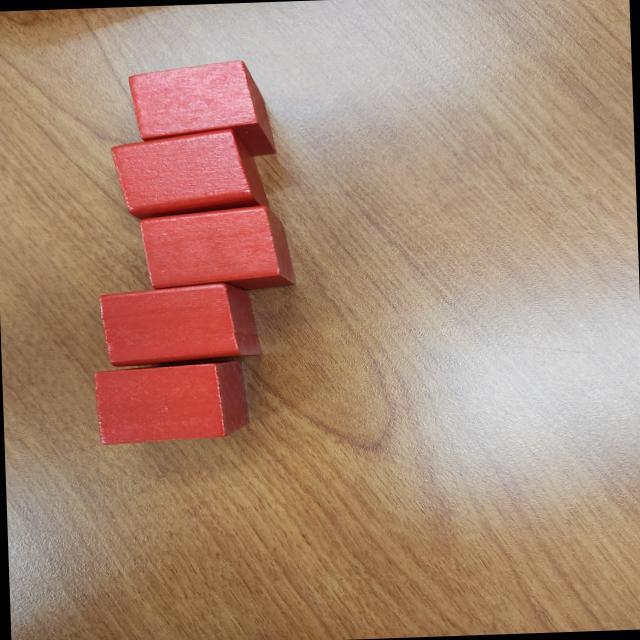red: (107, 127, 275, 221), (126, 58, 278, 161), (90, 358, 254, 448), (136, 203, 298, 294), (98, 281, 268, 367)
